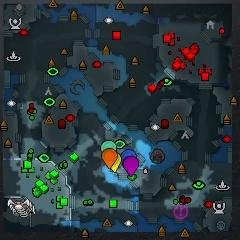Other: (174, 204, 189, 220)
p1: (120, 149, 137, 160)
p2: (101, 140, 117, 153)
p3: (123, 156, 139, 176)
p4: (109, 153, 122, 171)
p5: (102, 149, 117, 168)
